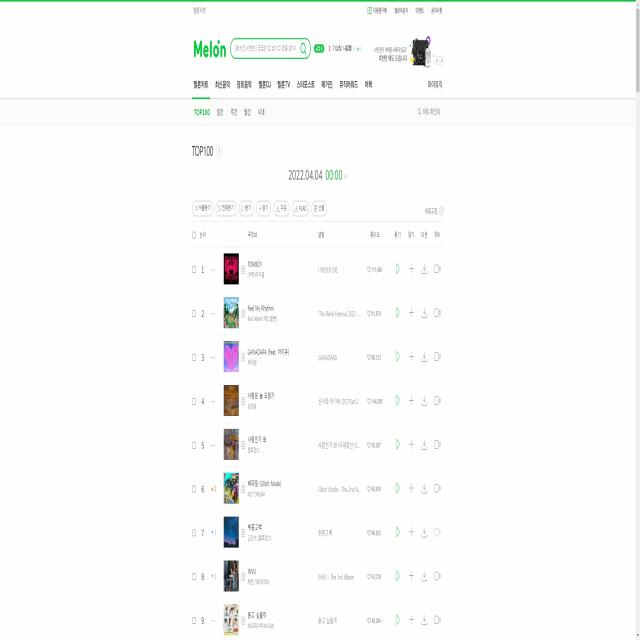search: (228, 34, 312, 63)
tab-bar: (192, 71, 374, 101), (192, 104, 268, 121)
